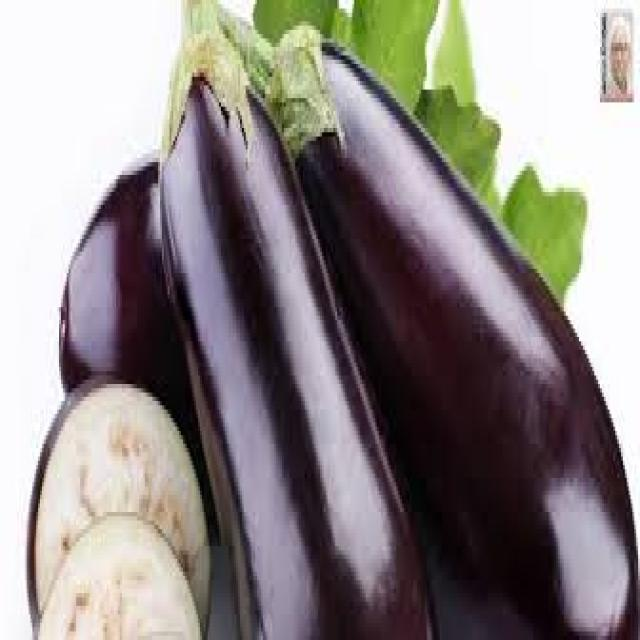eggplant: (276, 30, 632, 623), (160, 38, 415, 636)
